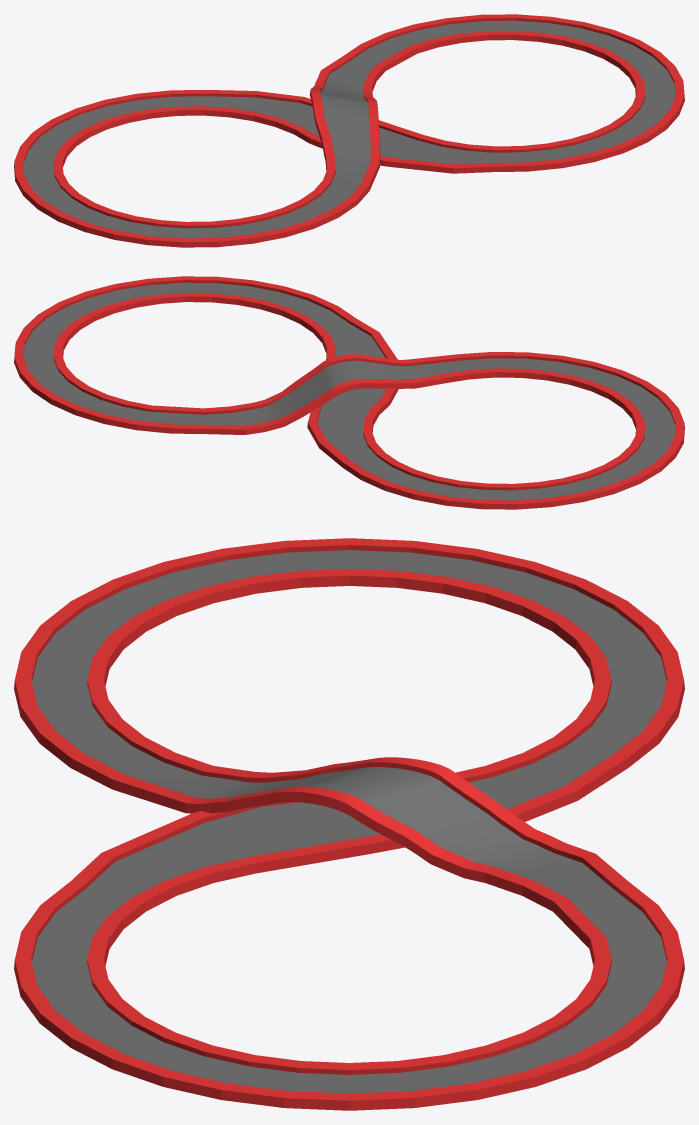
The picture shows the model from 3 angles, top to bottom: view 1: azimuth 30°, elevation 25°; view 2: azimuth 150°, elevation 25°; view 3: azimuth 270°, elevation 25°; orthographic projection. The views are drawn at different scales.
Visible parts, largest first — view 1: Circle; view 2: Circle; view 3: Circle.
Boxes of the visible parts, <box> form: Circle: <box>14,14,684,247</box>; Circle: <box>14,276,684,509</box>; Circle: <box>14,538,684,1110</box>.
Bounding box in the file's own units: 1123 × 49.12 × 566.
